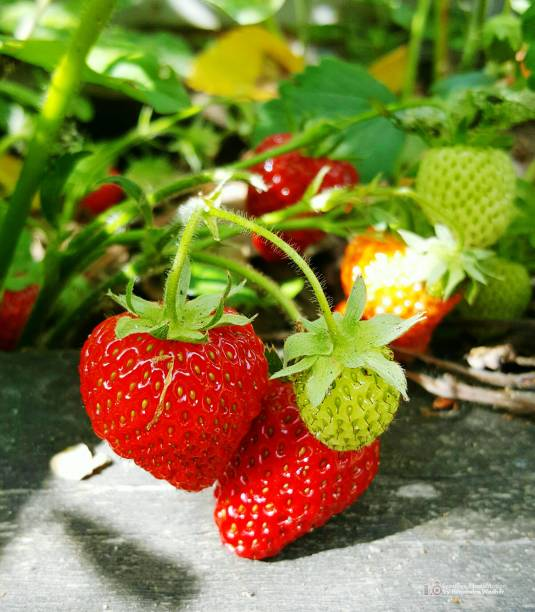Fresa: (73, 291, 273, 501), (204, 369, 385, 567), (244, 130, 359, 261)
